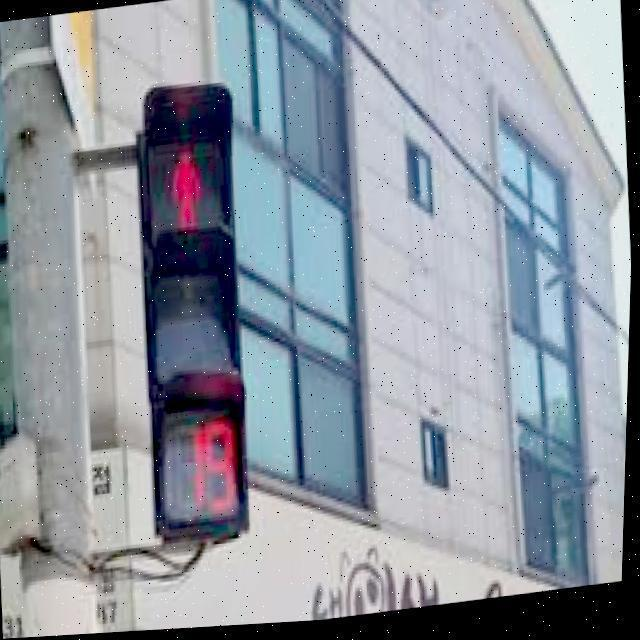redlight: (134, 104, 244, 390)
